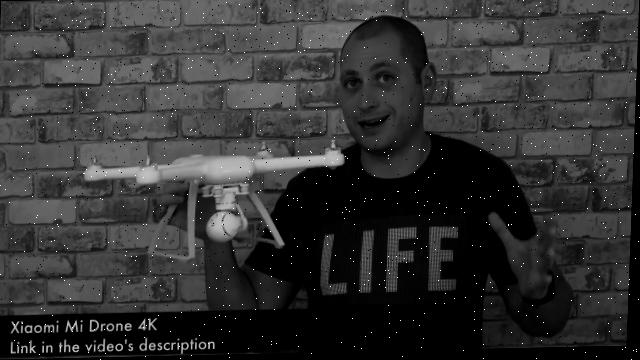drone: (73, 135, 343, 268)
